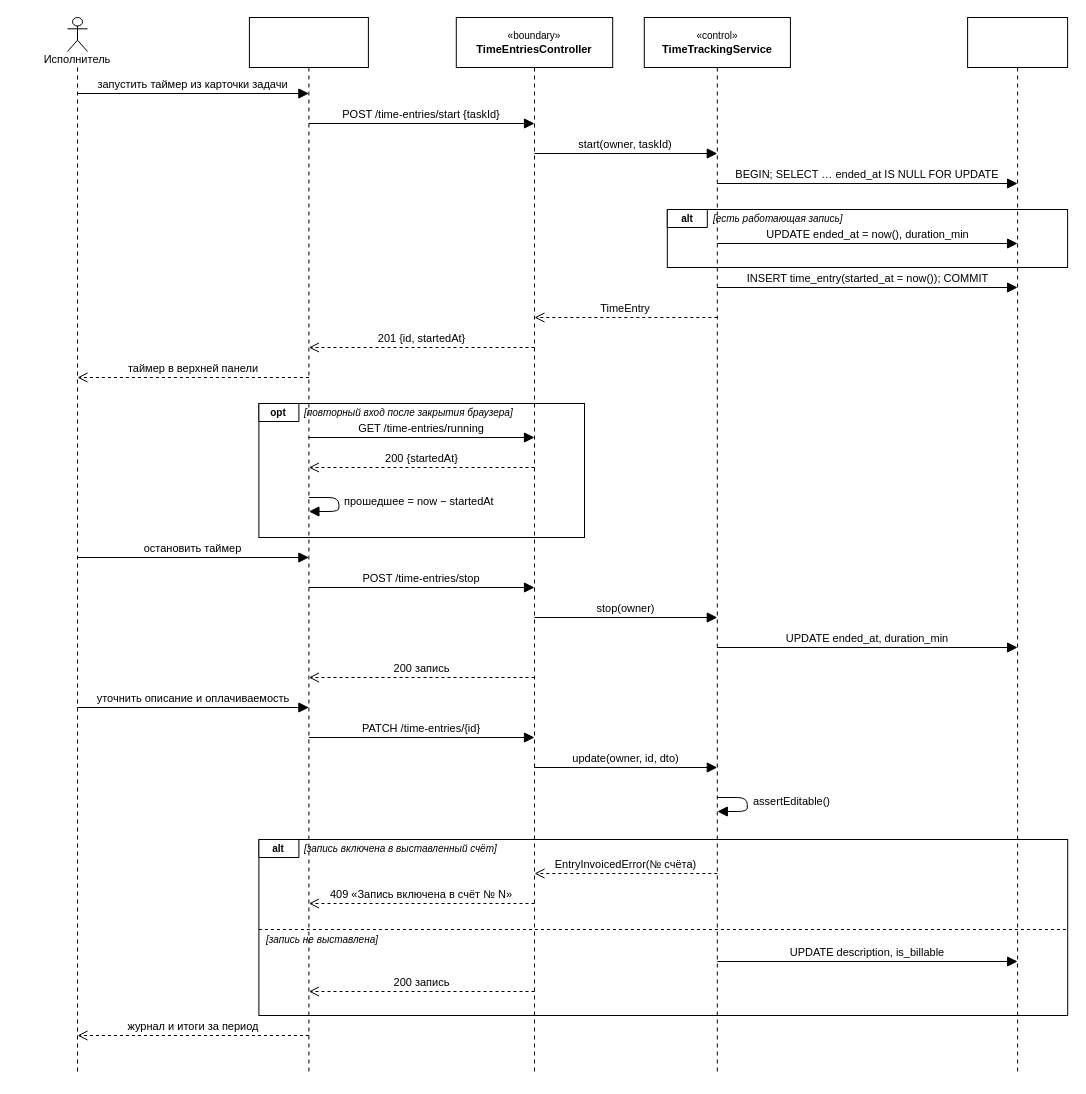
Image size: 1086x1094. Some labels were removed from this diagram. Each missing label, with the centre of its shape:
«boundary» Веб-приложение: the point at 308,42
«database» PostgreSQL: the point at 1017,42
